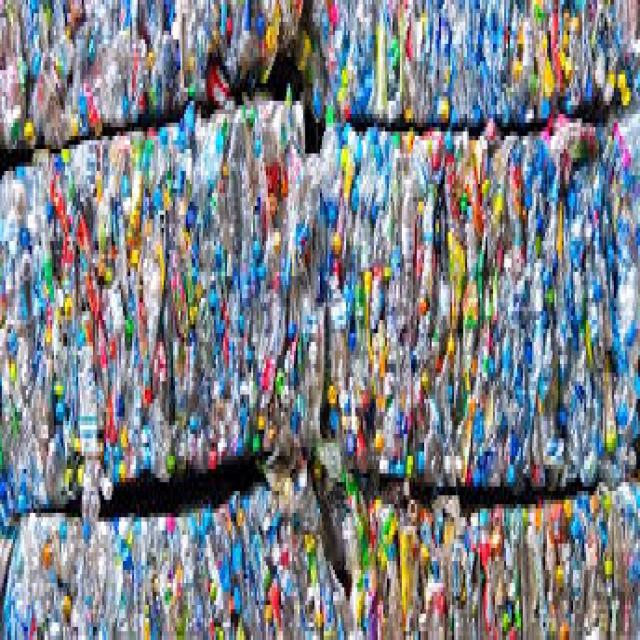plastic: (3, 14, 637, 637)
